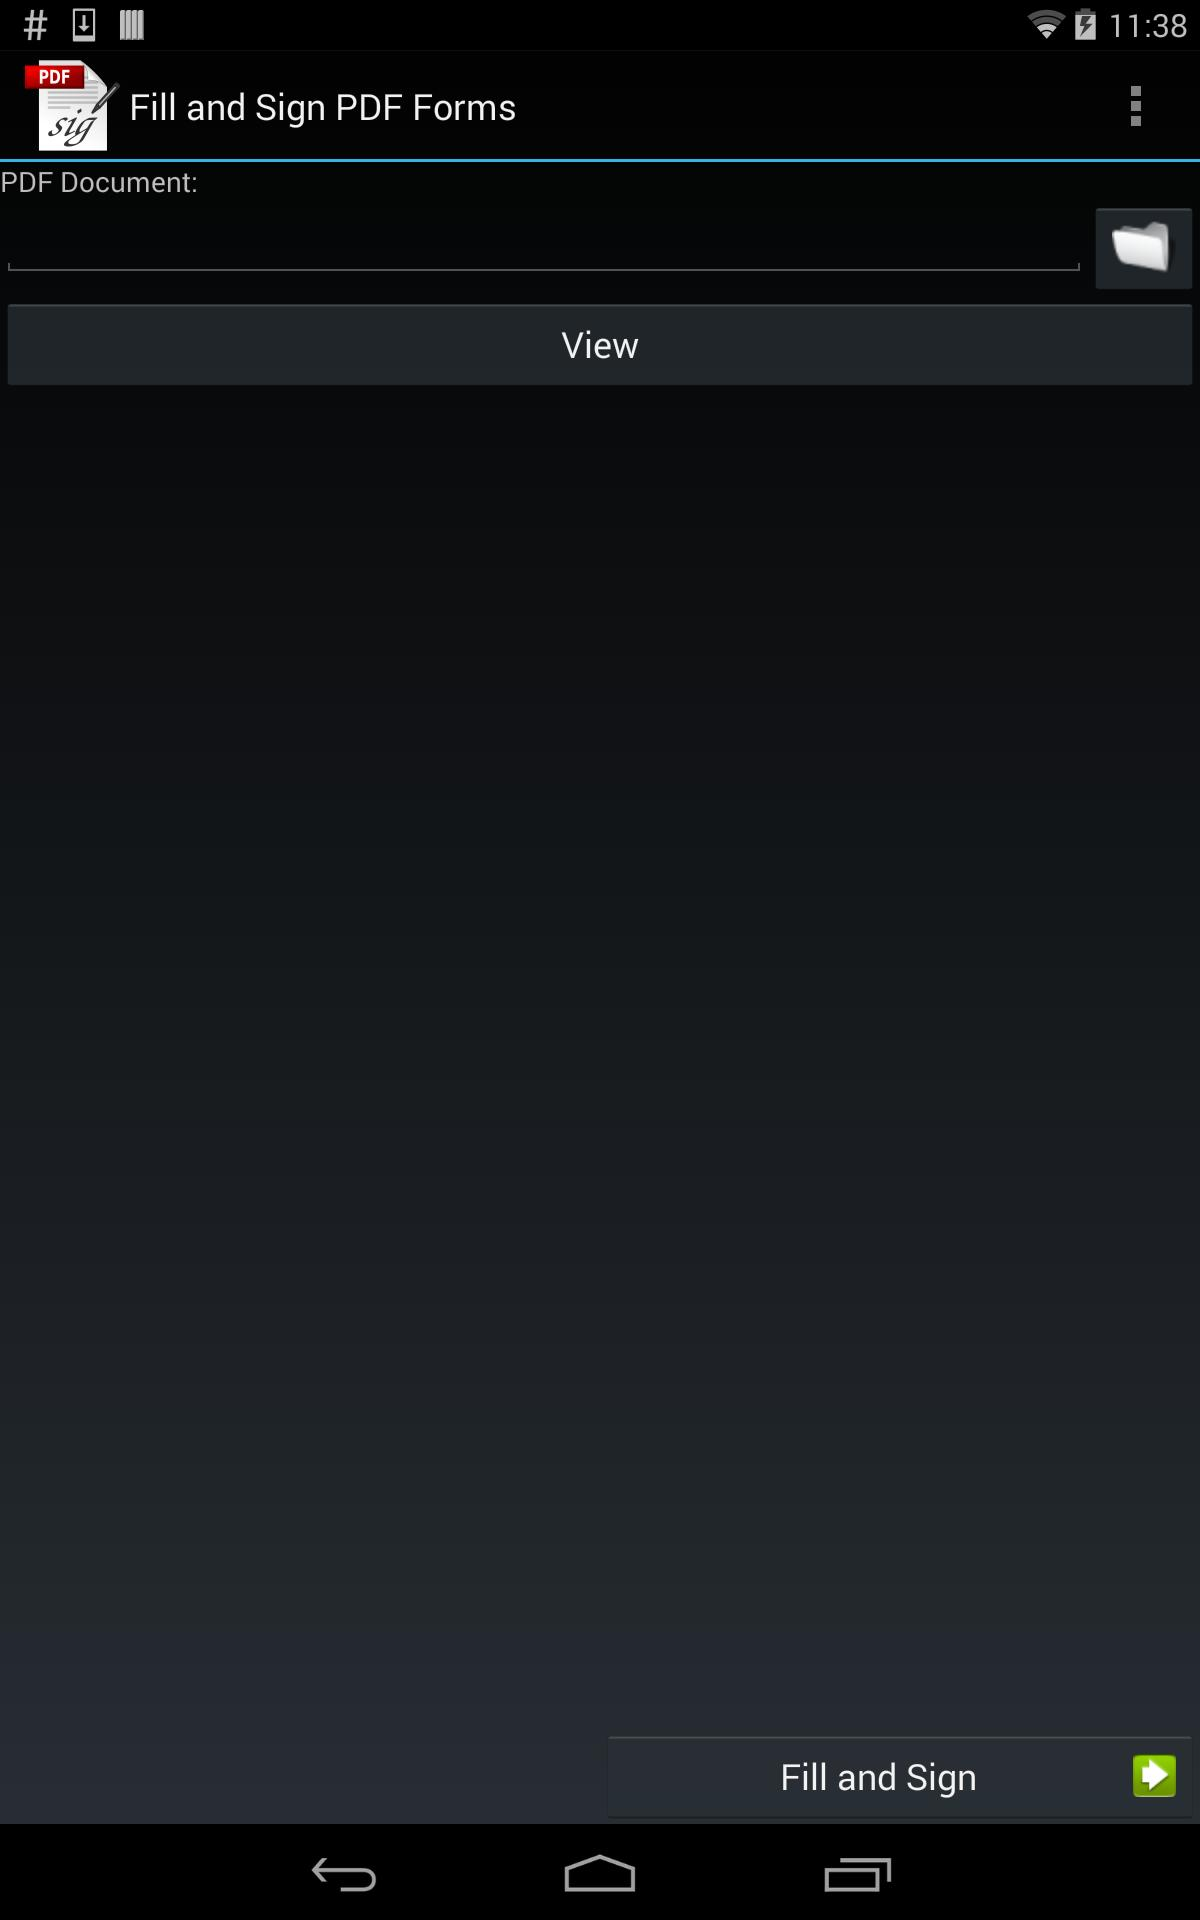android.view.View: (0, 0, 1200, 1825), (0, 50, 1200, 162)
android.widget.Button: (0, 296, 1200, 393), (600, 1728, 1200, 1825)
android.widget.EditText: (0, 200, 1088, 279)
android.widget.FrameLayout: (0, 0, 1200, 1825), (0, 162, 1200, 1825), (0, 50, 1200, 162), (17, 50, 129, 162)
android.widget.ImageButton: (1071, 50, 1200, 162), (1088, 200, 1200, 296)
android.widget.ImageView: (25, 58, 122, 153)
android.widget.LinearLayout: (0, 162, 1200, 1825), (0, 162, 1200, 1728), (0, 296, 1200, 393), (0, 1728, 1200, 1825), (0, 200, 1200, 296), (17, 50, 534, 162), (129, 82, 534, 130), (1071, 50, 1200, 162)
android.widget.TextView: (0, 162, 1200, 200), (129, 82, 517, 130)
